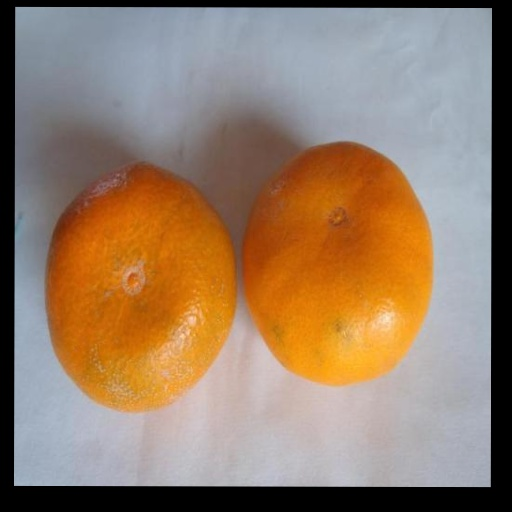fruit: (45, 162, 234, 410), (243, 142, 431, 385)
